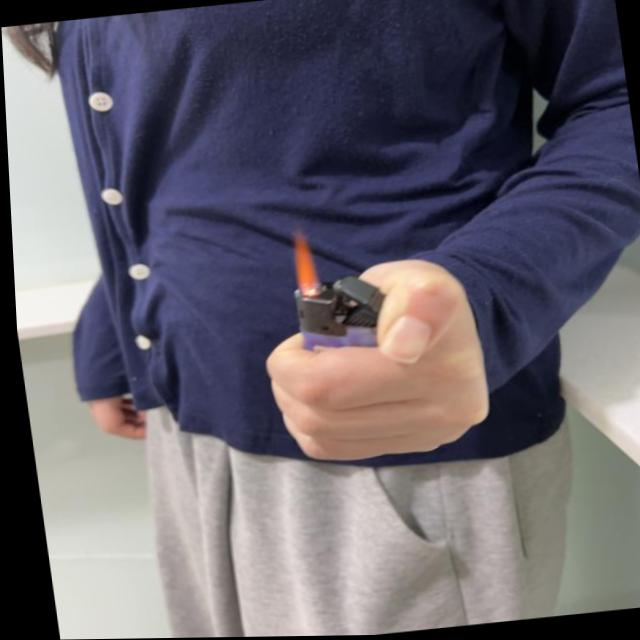Fire: (285, 226, 320, 299)
